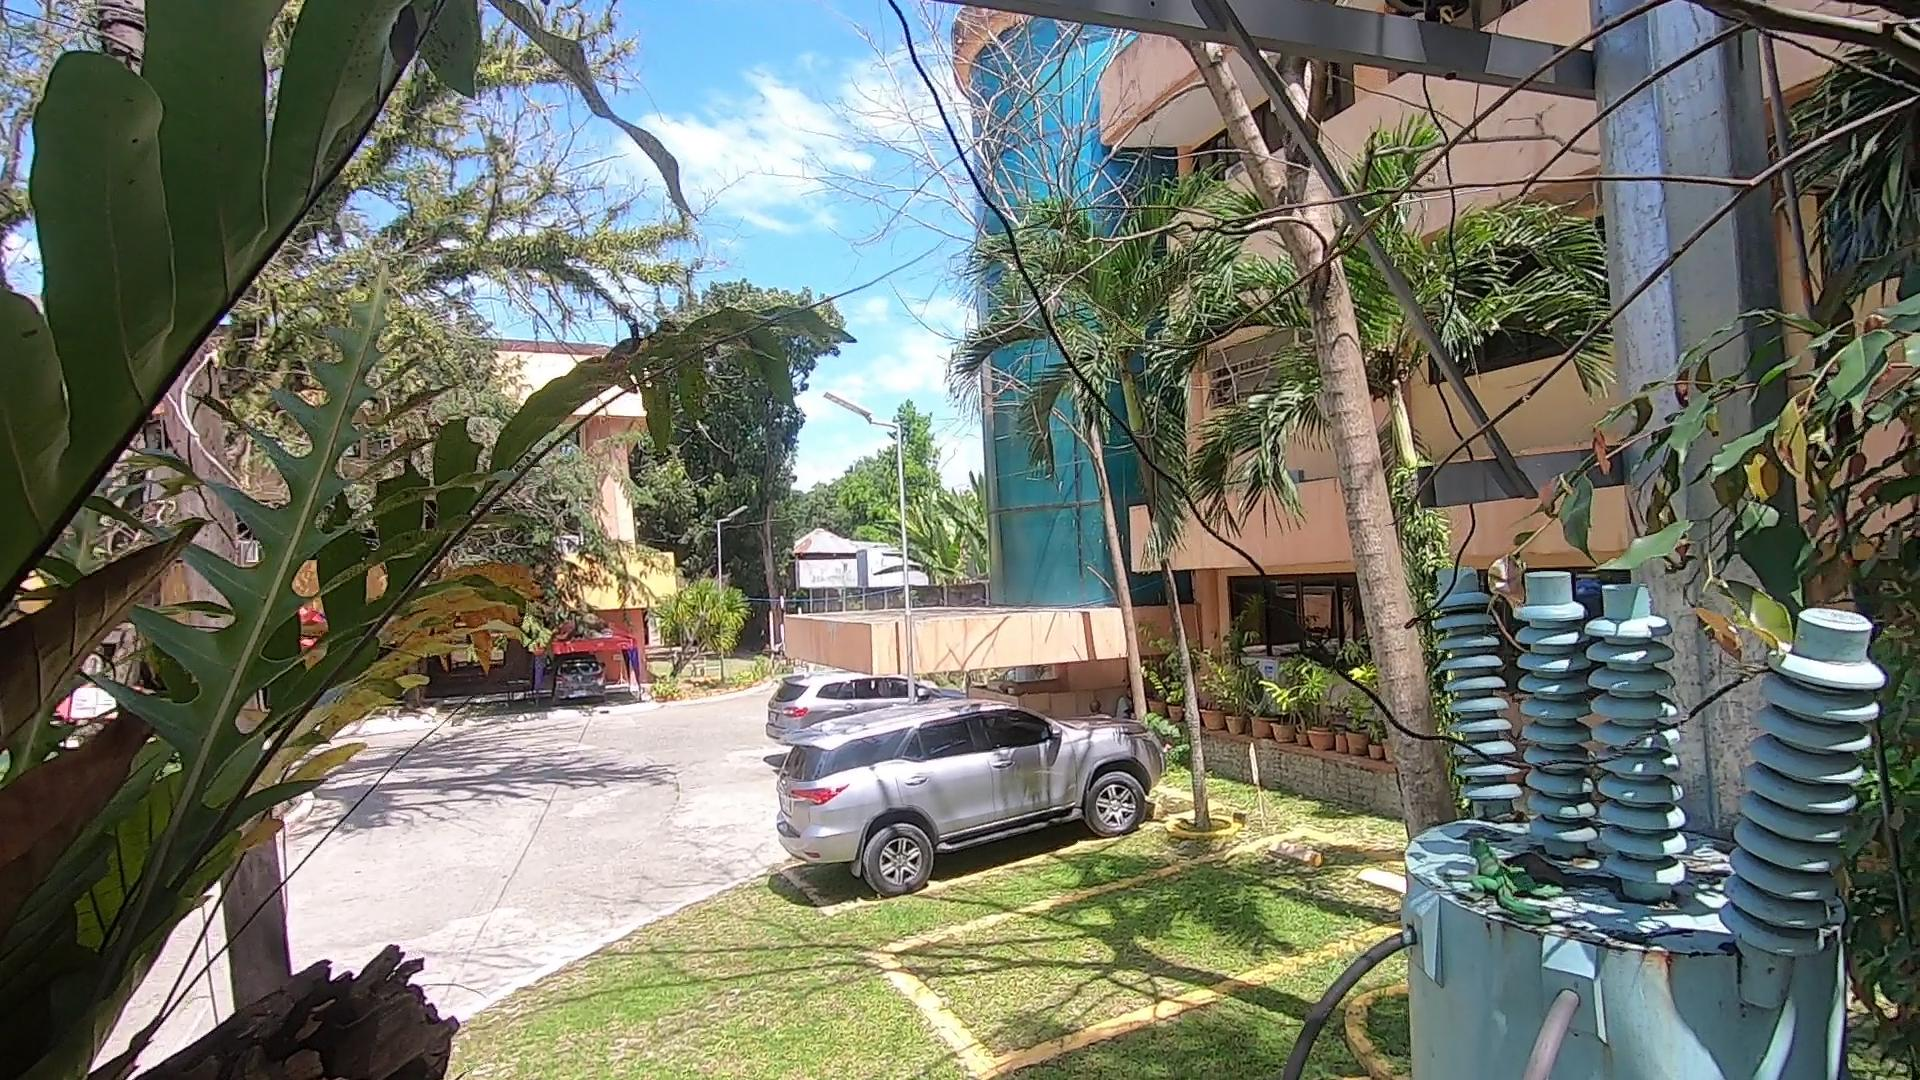leaf: (1523, 843, 1609, 901)
tree branch: (1142, 3, 1920, 527)
